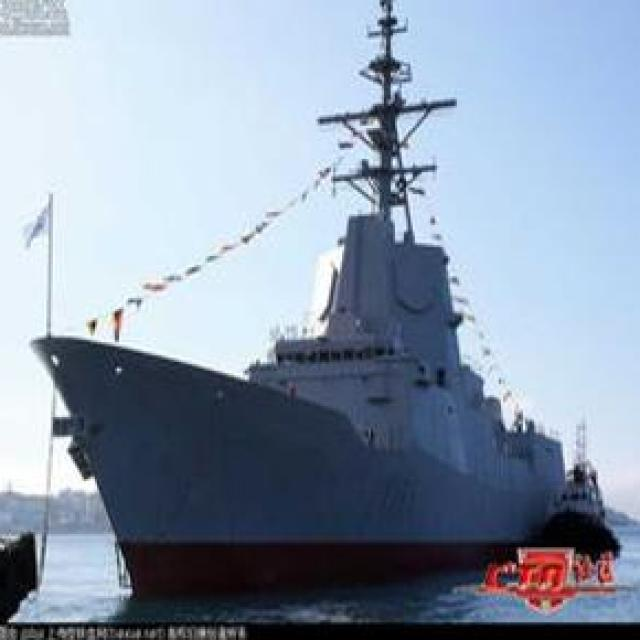navalvessels: (30, 43, 572, 593), (552, 446, 638, 569)
